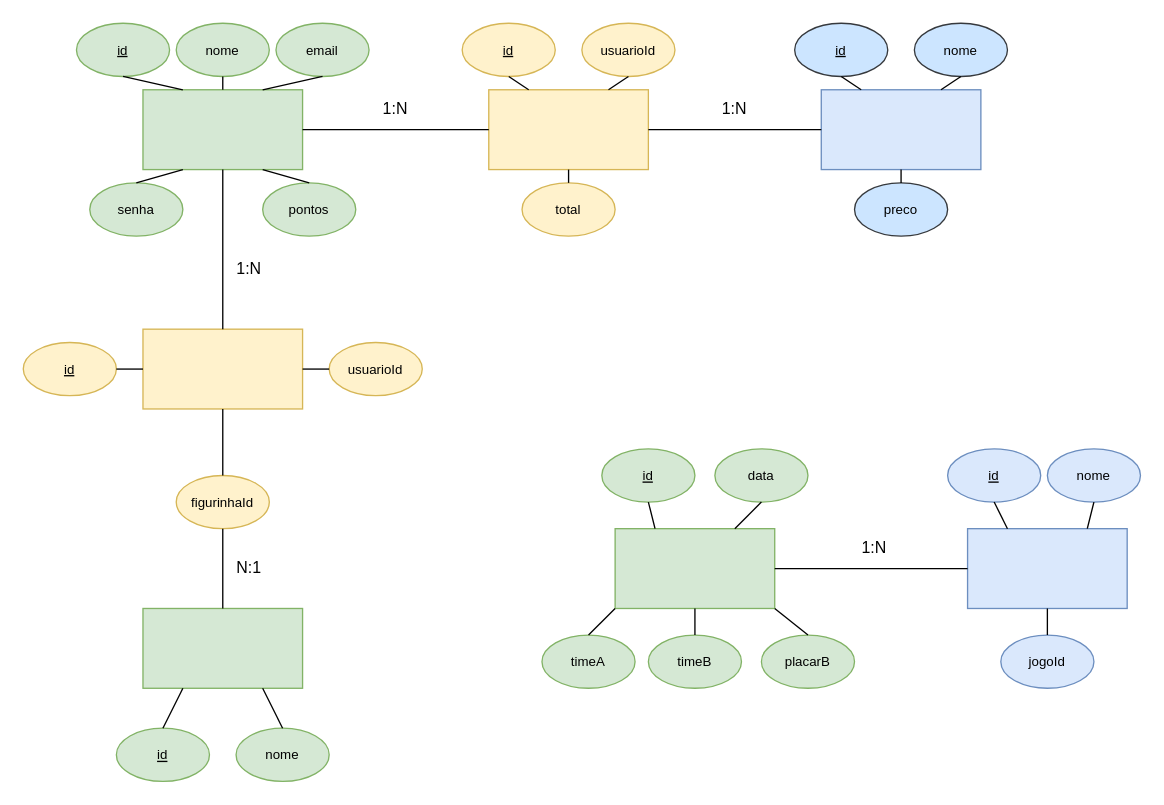
Image size: 1164x805. Some labels were removed from this diagram. The shapes that lost their labels are listed below. From the top down, each one's centre as x and y in pixels, then its label:
At [222,129]: "usuário".
At [567,129]: "pedido".
At [900,129]: "produto".
At [222,368]: "usuário_figurinha".
At [694,567]: "jogo".
At [1046,567]: "jogador".
At [222,647]: "figurinha".
